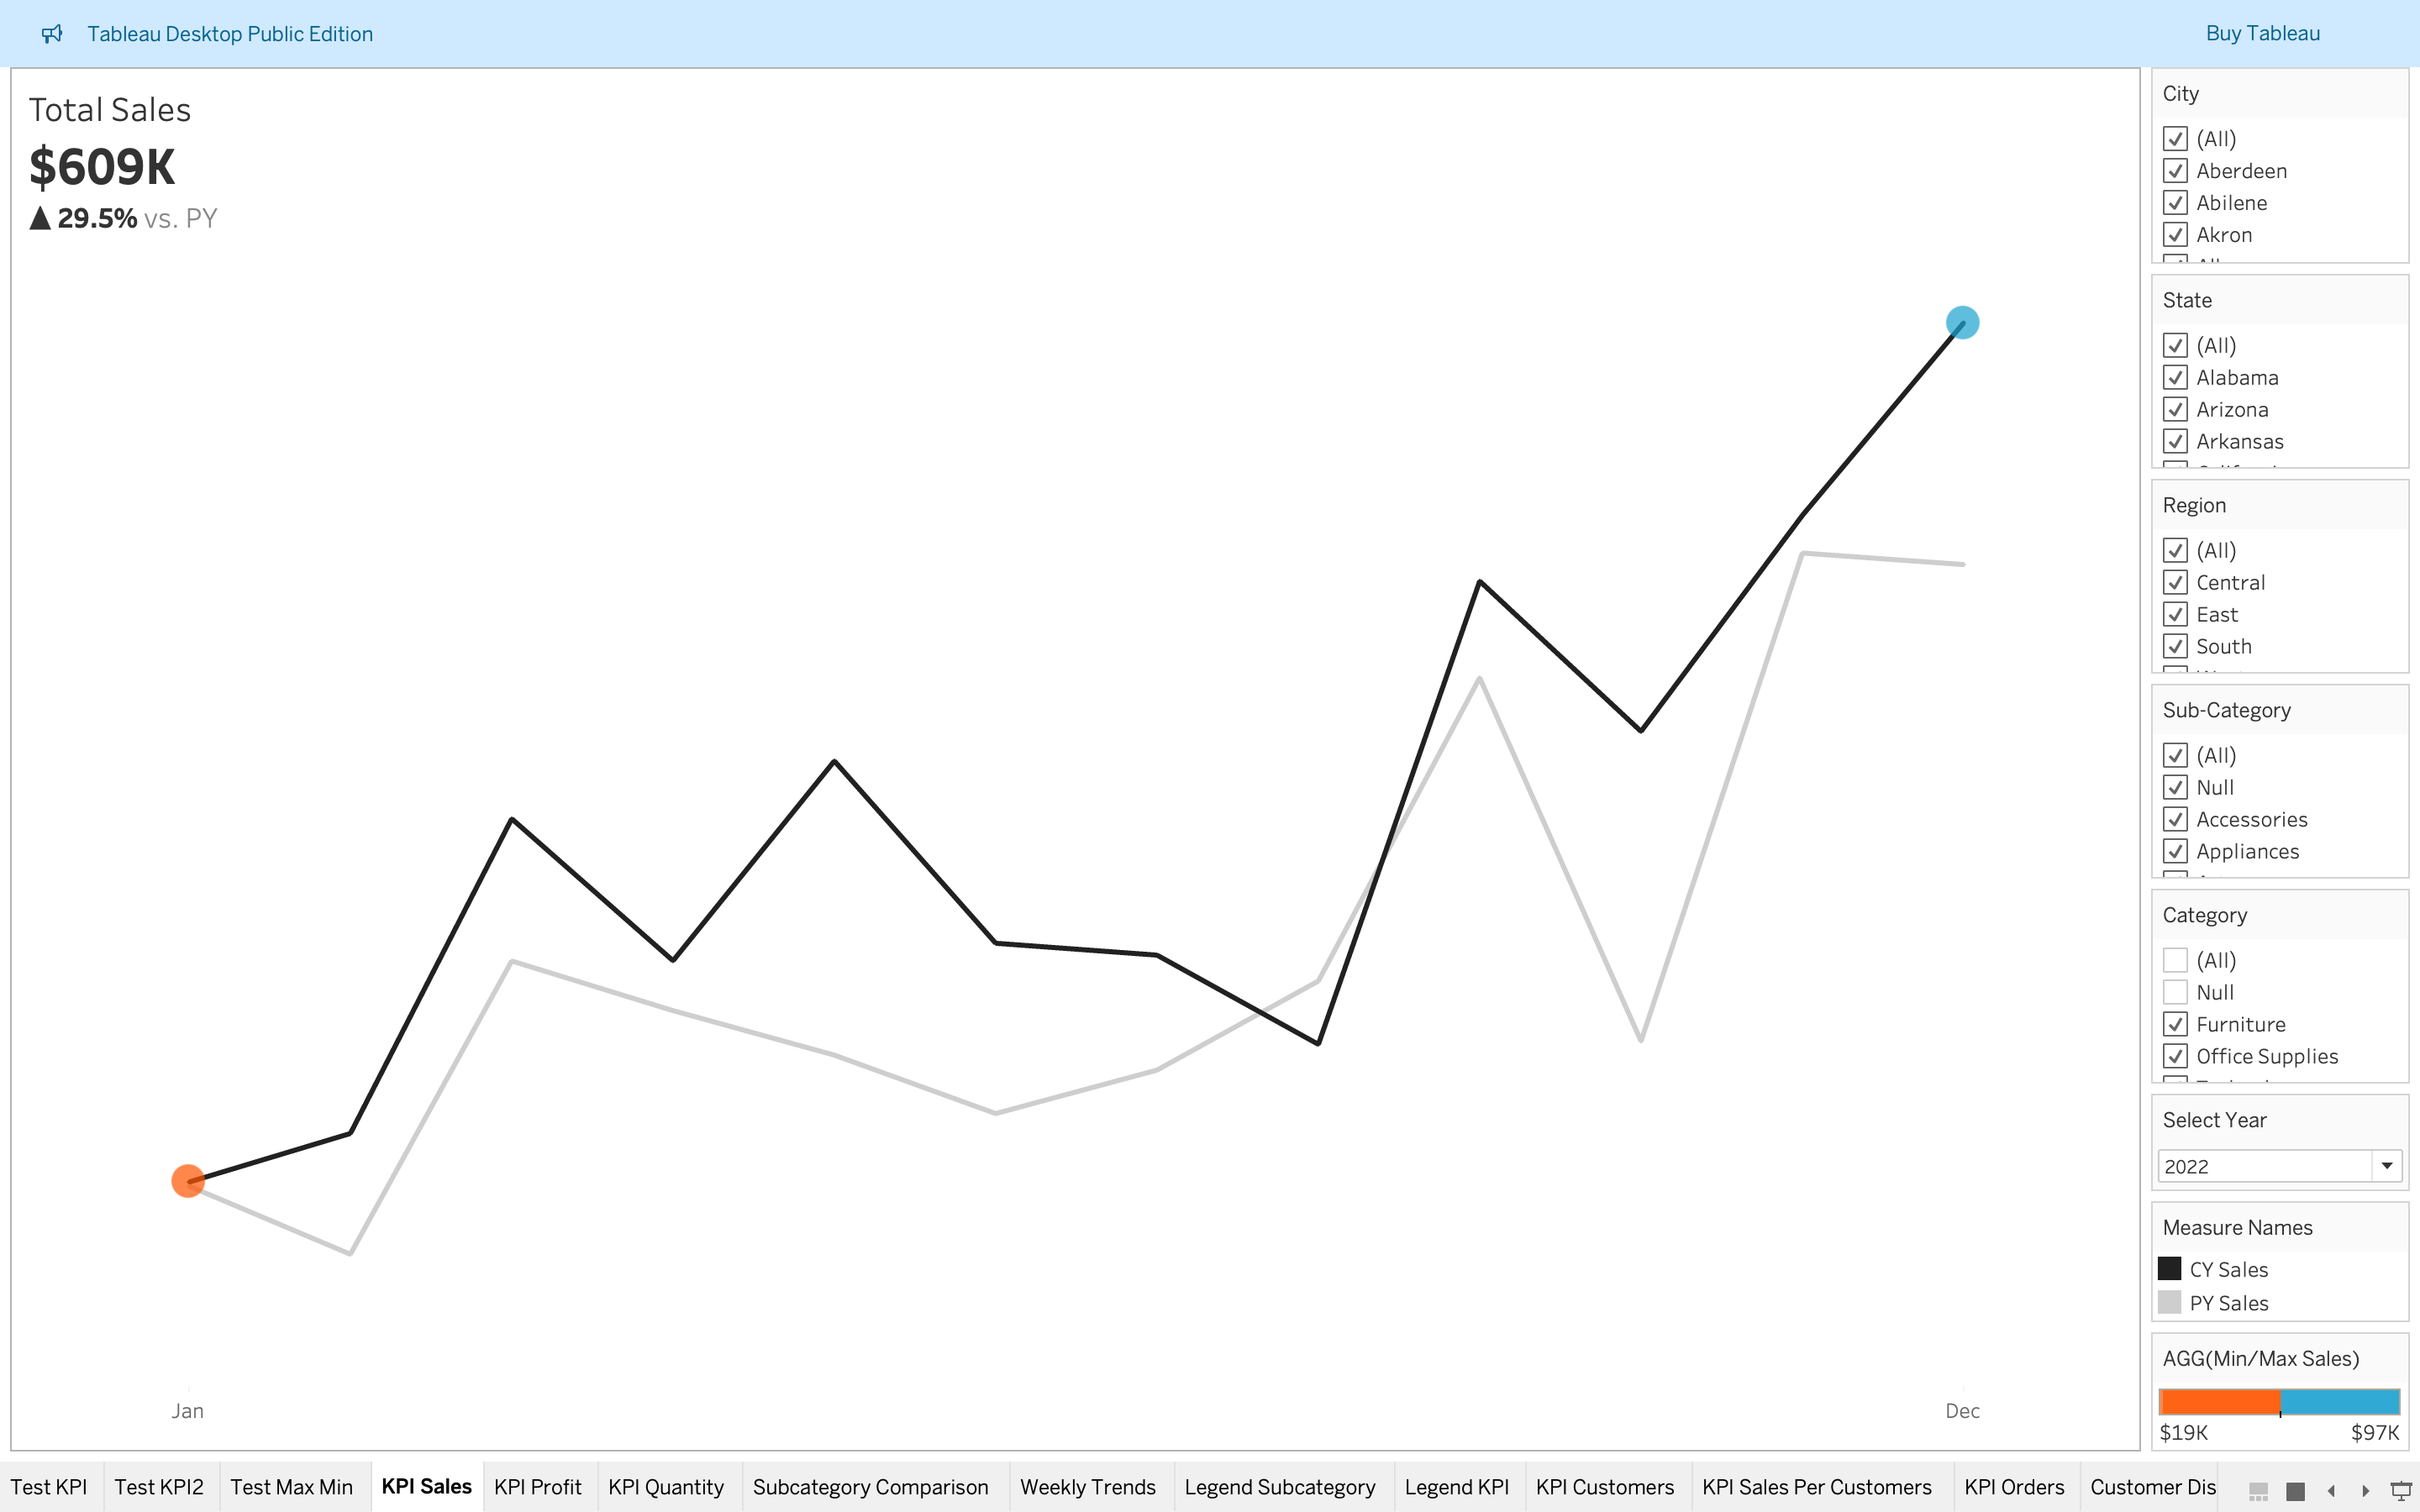

What the dashboard file says about the page in this screenshot:
{"tool":"tableau","page":{"name":"Sales Dashboard","canvas":[1200,800],"ordinal":1},"visuals":[{"type":"image","param":"Image/Icon - Logo.png","box":[0,0,73,59]},{"type":"text","box":[73,0,820,59]},{"type":"dashboard-object","box":[940,6,91,70]},{"type":"dashboard-object","box":[1031,6,91,70]},{"type":"blank","box":[952,10,237,86]},{"type":"worksheet","title":"Legend KPI","mark":"Automatic","box":[0,59,1200,29]},{"type":"worksheet","title":"KPI Sales","mark":"Automatic","rows":["Calculation_721701895347843083"],"cols":["Order Date"],"box":[0,88,400,284]},{"type":"worksheet","title":"KPI Profit","mark":"Automatic","rows":["Min/Max Sales (copy)_237846410425847814"],"cols":["Order Date"],"box":[400,88,400,284]},{"type":"worksheet","title":"KPI Quantity","mark":"Automatic","rows":["Min/Max Sales (copy) (copy)_237846410425856007"],"cols":["Order Date"],"box":[800,88,400,284]},{"type":"text","box":[952,96,237,34]},{"type":"parameter","param":"[Parameters].[Parameter 1]","box":[952,130,237,52]},{"type":"text","box":[952,182,237,29]},{"type":"filter","title":"KPI Sales","param":"[federated.1kpxa041aiai2y1cl4pui1t4eju9].[none:Category:nk]","box":[952,211,237,52]},{"type":"filter","title":"KPI Sales","param":"[federated.1kpxa041aiai2y1cl4pui1t4eju9].[none:Sub-Category:nk]","box":[952,263,237,52]},{"type":"blank","box":[952,315,237,60]},{"type":"text","box":[952,375,237,29]},{"type":"text","box":[17,389,566,34]},{"type":"text","box":[617,389,566,34]},{"type":"filter","title":"KPI Sales","param":"[federated.1kpxa041aiai2y1cl4pui1t4eju9].[none:Region:nk]","box":[952,404,237,52]},{"type":"worksheet","title":"Legend Subcategory","mark":"Automatic","box":[17,423,374,32]},{"type":"text","box":[391,423,192,32]},{"type":"text","box":[617,423,566,25]},{"type":"worksheet","title":"Weekly Trends","mark":"Automatic","rows":["Calculation_721701895334993921","CY Sales (copy)_237846410424180736"],"cols":["Order Date"],"box":[617,448,566,335]},{"type":"worksheet","title":"Subcategory Comparison","mark":"Bar","rows":["Sub-Category","Calculation_2435040078806671369"],"cols":["CY Sales (copy)_721701895335804930","Calculation_721701895334993921","CY Sales (copy)_237846410424180736"],"box":[17,455,566,327.9]},{"type":"filter","title":"KPI Sales","param":"[federated.1kpxa041aiai2y1cl4pui1t4eju9].[none:State:nk]","box":[952,456,237,52]},{"type":"filter","title":"KPI Sales","param":"[federated.1kpxa041aiai2y1cl4pui1t4eju9].[none:City:nk]","box":[952,508,237,52]}]}

Visuals, with their boxes on the page's 1200x800 design canvas (x1, y1, x2, y2). These are canvas units, not pixel positions in the 2420x1512 screenshot, which may show the page scaled, cropped or inside an application window:
image: 0,0,73,59
text: 73,0,893,59
dashboard-object: 940,6,1031,76
dashboard-object: 1031,6,1122,76
blank: 952,10,1189,96
"Legend KPI" worksheet: 0,59,1200,88
"KPI Sales" worksheet: 0,88,400,372
"KPI Profit" worksheet: 400,88,800,372
"KPI Quantity" worksheet: 800,88,1200,372
text: 952,96,1189,130
parameter: 952,130,1189,182
text: 952,182,1189,211
"KPI Sales" filter: 952,211,1189,263
"KPI Sales" filter: 952,263,1189,315
blank: 952,315,1189,375
text: 952,375,1189,404
text: 17,389,583,423
text: 617,389,1183,423
"KPI Sales" filter: 952,404,1189,456
"Legend Subcategory" worksheet: 17,423,391,455
text: 391,423,583,455
text: 617,423,1183,448
"Weekly Trends" worksheet: 617,448,1183,783
"Subcategory Comparison" worksheet (Bar marks): 17,455,583,783
"KPI Sales" filter: 952,456,1189,508
"KPI Sales" filter: 952,508,1189,560
